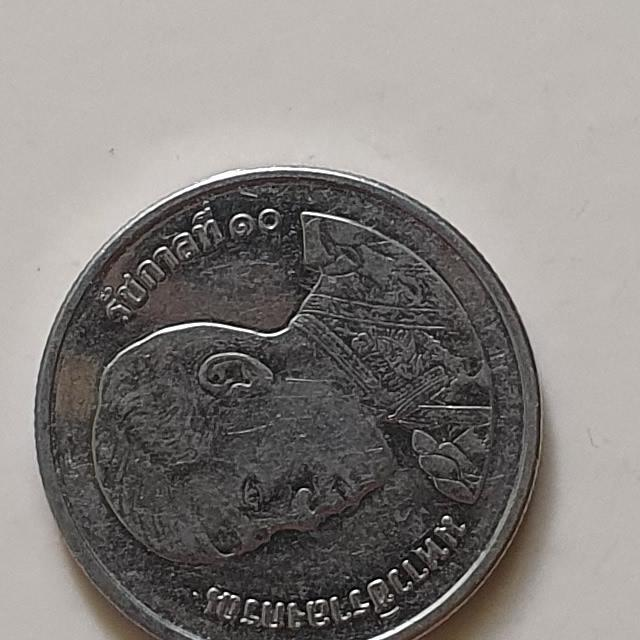1 Bath: (25, 158, 551, 640)
